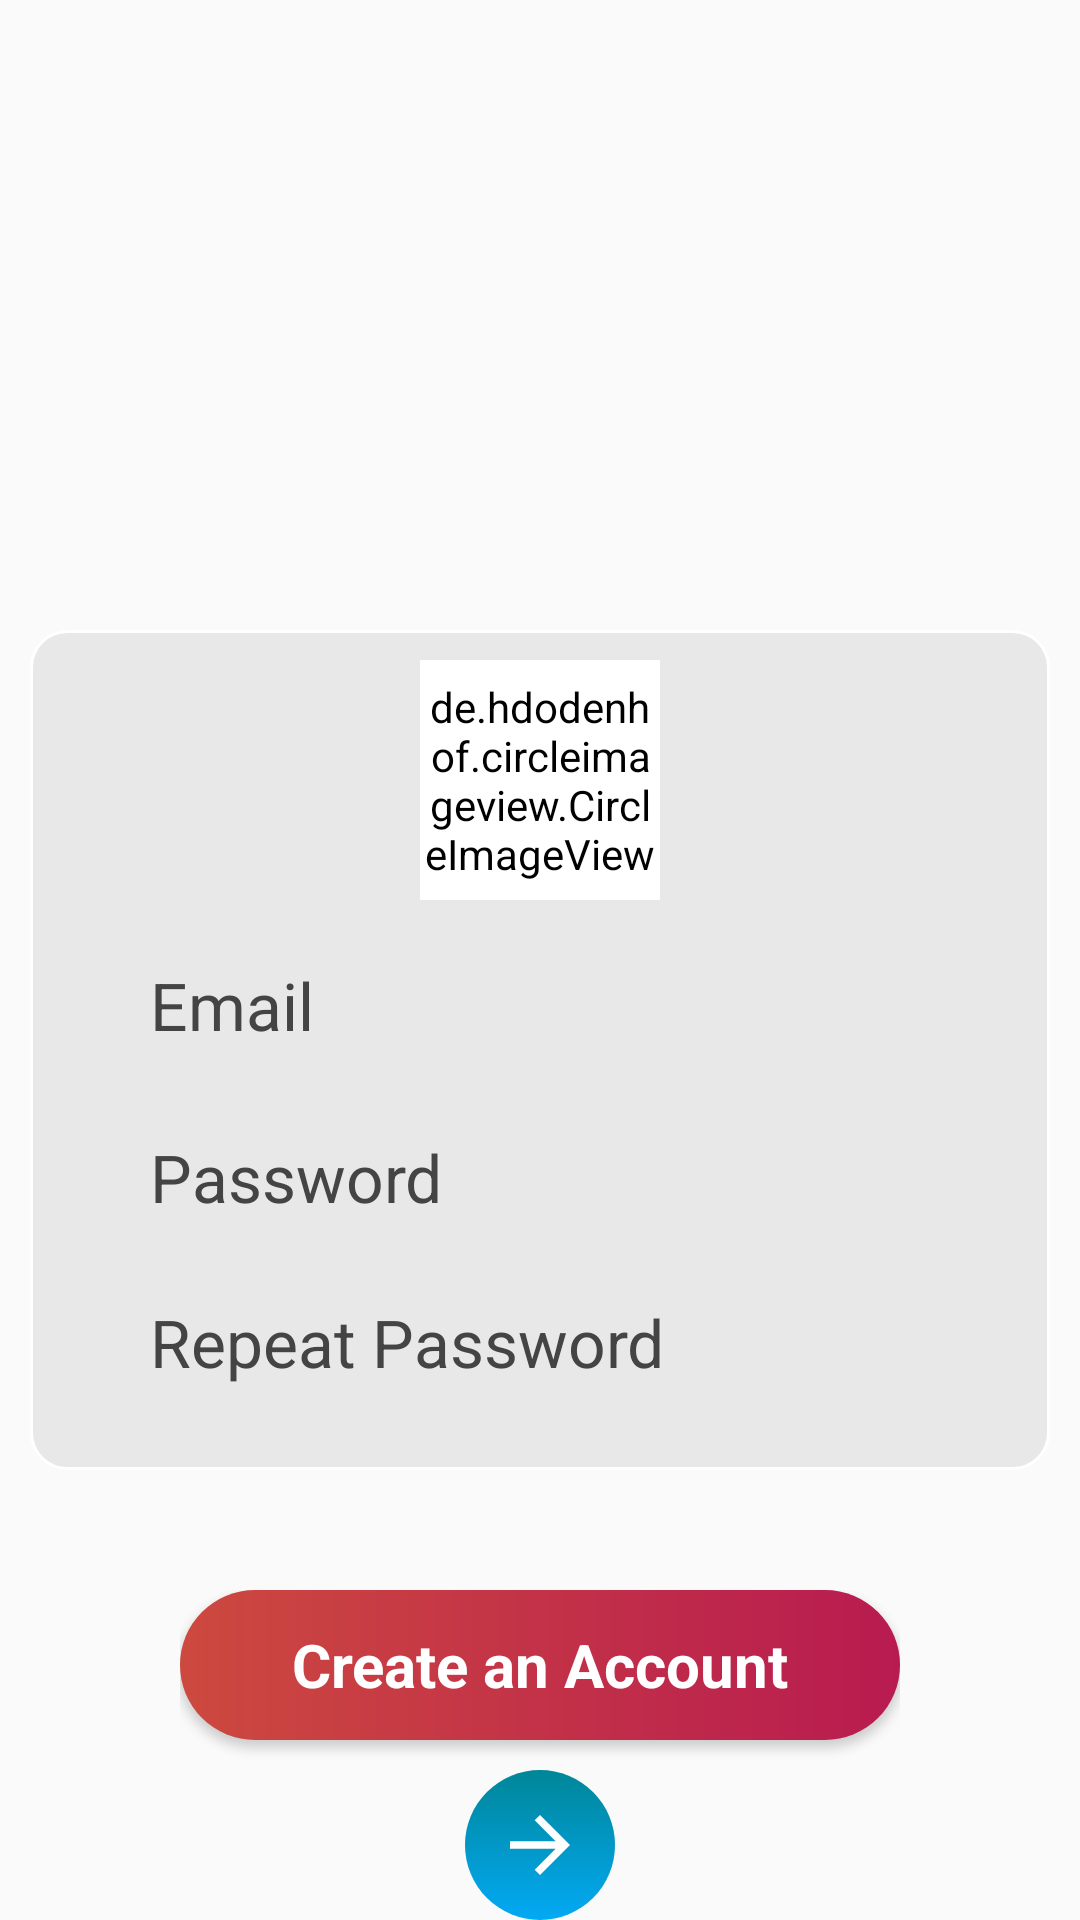

Icons on this 1080x1920 Android screen, each with the point to tap as (x=x, y=y):
arrow forward: (x=540, y=1845)
